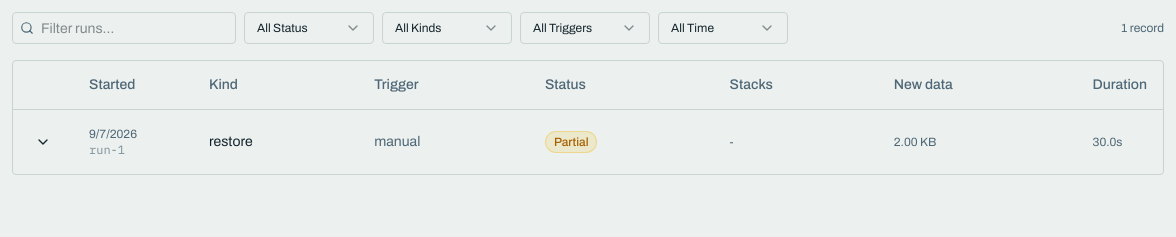
BackupHistoryTab — expandable run rows › shows a partial restore run's error message instead of "no per-stack records"
The image size is (1176, 237).
Expected: the text "run-1" is shown, [89, 142, 125, 156]
Click the button named "Show details for run run-1".
click(43, 142)  # box [29, 128, 57, 156]
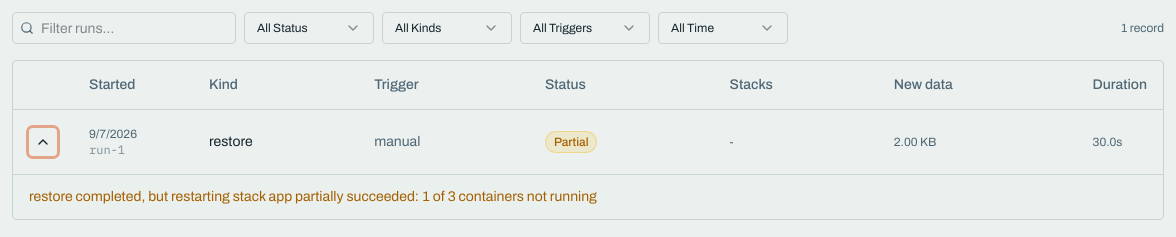
Now the text with test id "run-error-message-run-1" shows "restore completed, but restarting stack app partially succeeded: 1 of 3 containers not running", box [29, 188, 597, 204]
